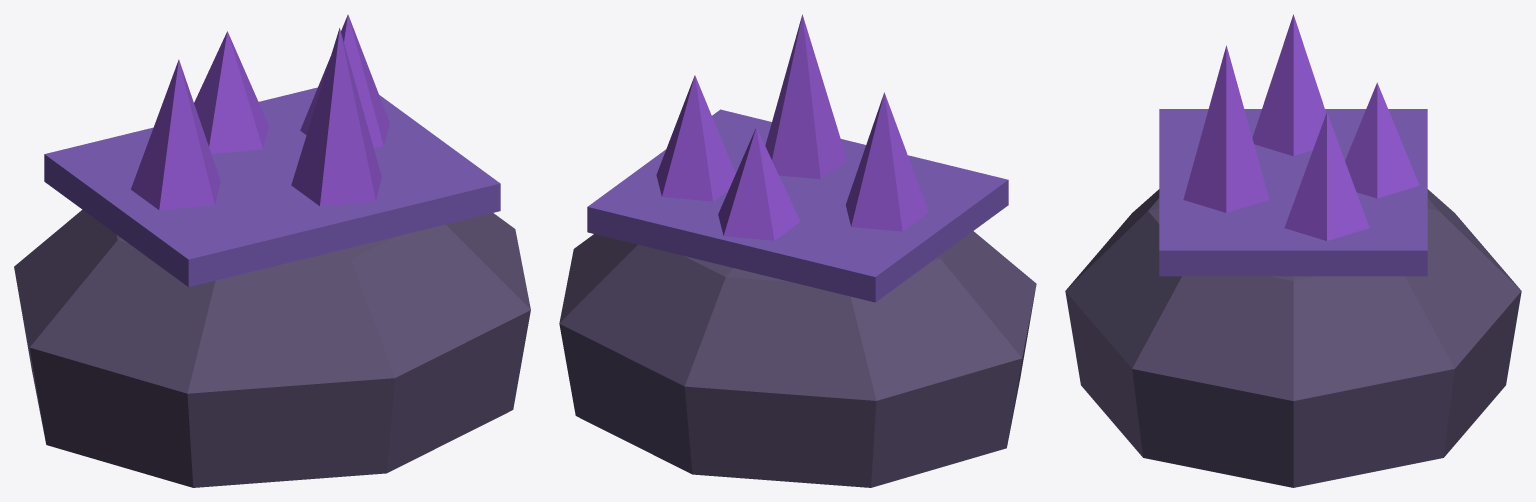
The model's file is env_r12_geode_rock.glb.
3 renders of one model, left to right at view 1: azimuth 30°, elevation 25°; view 2: azimuth 150°, elevation 25°; view 3: azimuth 270°, elevation 25°, orthographic. The views are drawn at different scales.
Parts seen in each view (by area): view 1: env_r12_geode_rock; view 2: env_r12_geode_rock; view 3: env_r12_geode_rock.
Boxes of the visible parts, left/top/right/bottom form: env_r12_geode_rock: left=14, top=14, right=530, bottom=487; env_r12_geode_rock: left=559, top=14, right=1036, bottom=487; env_r12_geode_rock: left=1065, top=14, right=1521, bottom=487.
Size of the model in its own units: 1.6 by 1.2 by 1.4.
Materials: 1 (1 with a texture image).
